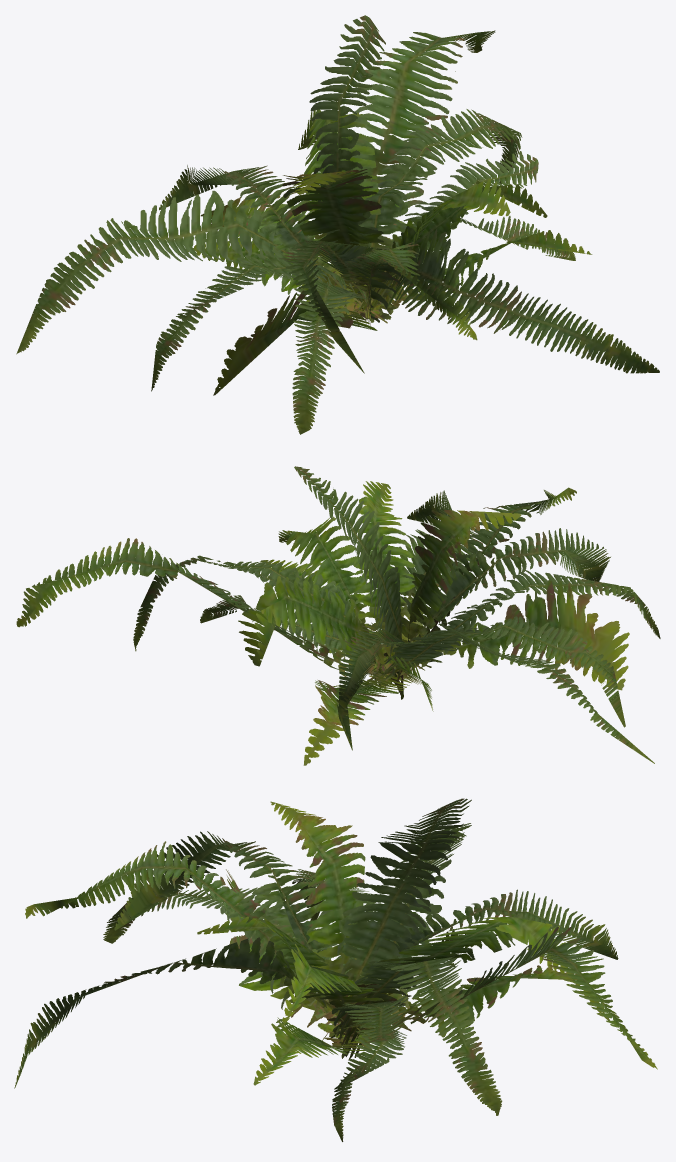
The picture shows the model from 3 angles, top to bottom: view 1: azimuth 30°, elevation 25°; view 2: azimuth 150°, elevation 25°; view 3: azimuth 270°, elevation 25°; orthographic projection. The views are drawn at different scales.
Parts seen in each view (by area): view 1: fern_02__b_lod1; view 2: fern_02__b_lod1; view 3: fern_02__b_lod1.
Boxes of the visible parts, bbox=[...] form: fern_02__b_lod1: bbox=[16, 15, 659, 434]; fern_02__b_lod1: bbox=[16, 466, 660, 765]; fern_02__b_lod1: bbox=[14, 798, 657, 1141].
Bounding box in the file's own units: 1.03 × 0.4517 × 0.9124.
Materials: 1 (1 with a texture image).
